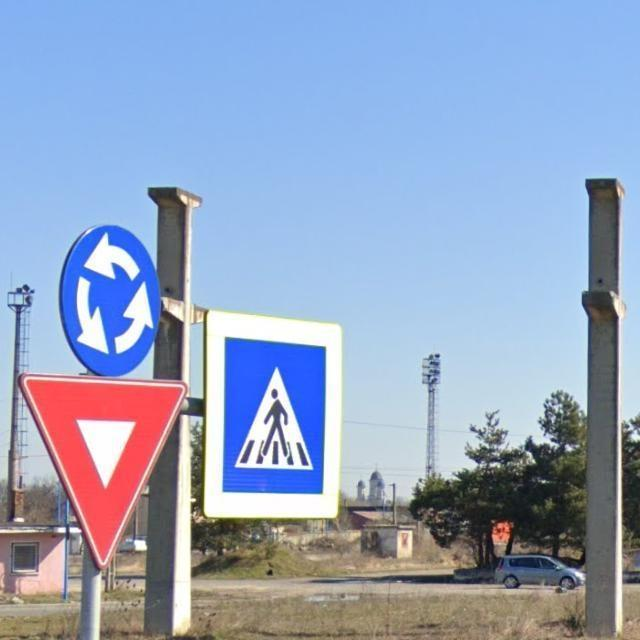info_crosswalk: (204, 310, 341, 520)
prio_give_way: (18, 370, 181, 570)
